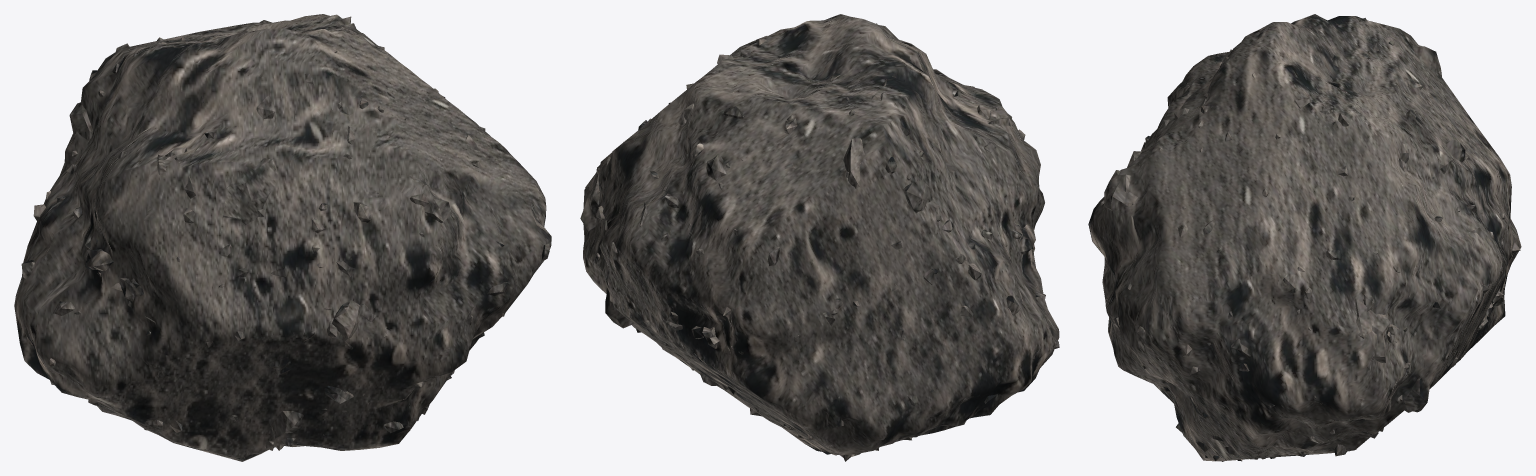
File: stony-cinematic.glb
3 views of the same model, side by side, from view 1: azimuth 30°, elevation 25°; view 2: azimuth 150°, elevation 25°; view 3: azimuth 270°, elevation 25° (orthographic). The views are drawn at different scales.
Parts seen in each view (by area): view 1: stony fractured core; view 2: stony fractured core; view 3: stony fractured core.
Boxes of the visible parts, x1,y1,x2,y2 form: stony fractured core: (14,14,551,461); stony fractured core: (580,14,1059,461); stony fractured core: (1088,14,1521,461).
Size of the model in its own units: 2.21 by 1.94 by 1.81.
Materials: 1 (1 with a texture image).
